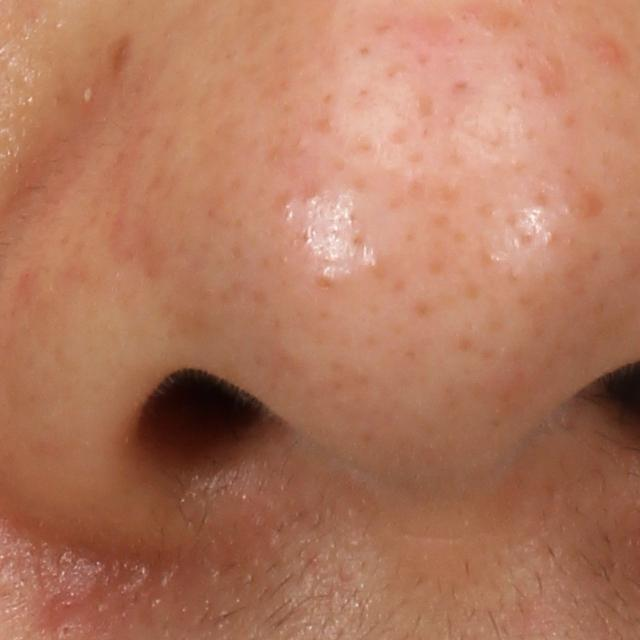papule: (587, 33, 627, 66)
